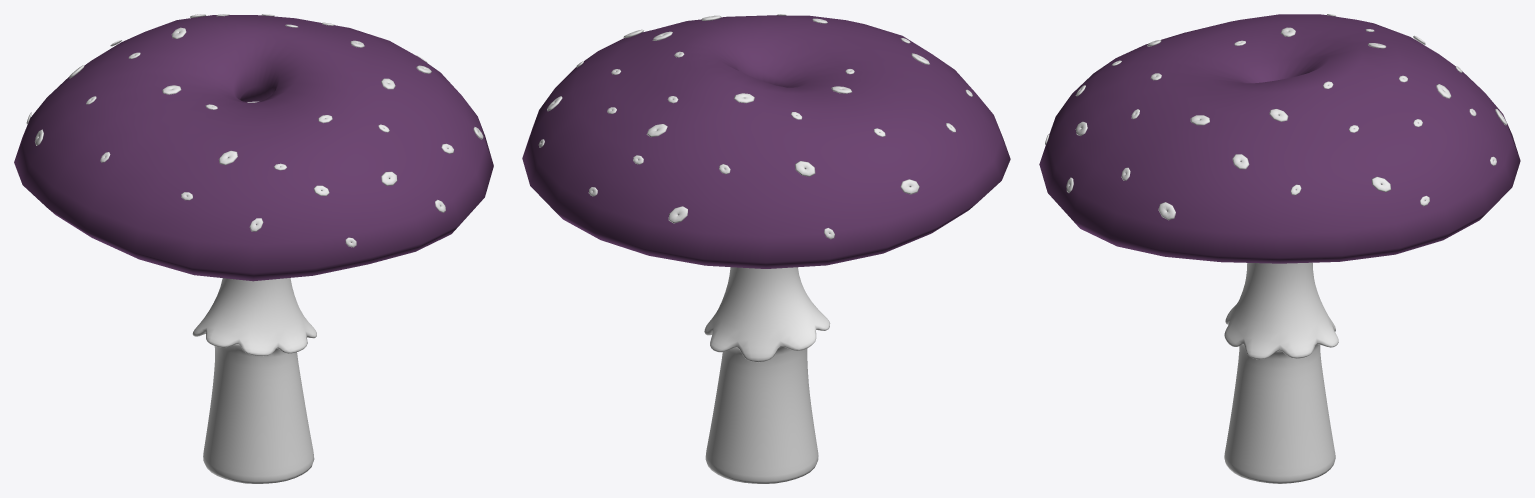
Rendered from PoisonMushroom_B.fbx.
The picture shows the model from 3 angles, left to right: view 1: azimuth 30°, elevation 25°; view 2: azimuth 150°, elevation 25°; view 3: azimuth 270°, elevation 25°; orthographic projection.
Parts seen in each view (by area): view 1: Poisonous Russula.001, 圓柱體.009, Torus.001; view 2: Poisonous Russula.001, 圓柱體.009, Torus.001; view 3: Poisonous Russula.001, 圓柱體.009, Torus.001.
Boxes of the visible parts, x1,y1,x2,y2 form: Poisonous Russula.001: (14, 15, 493, 281); 圓柱體.009: (192, 101, 316, 483); Torus.001: (26, 14, 483, 247); Poisonous Russula.001: (522, 15, 1010, 268); 圓柱體.009: (704, 267, 830, 483); Torus.001: (538, 14, 972, 239); Poisonous Russula.001: (1039, 14, 1520, 263); 圓柱體.009: (1224, 262, 1338, 483); Torus.001: (1045, 14, 1506, 220).
Size of the model in its own units: 86.6 by 81.78 by 87.2.
